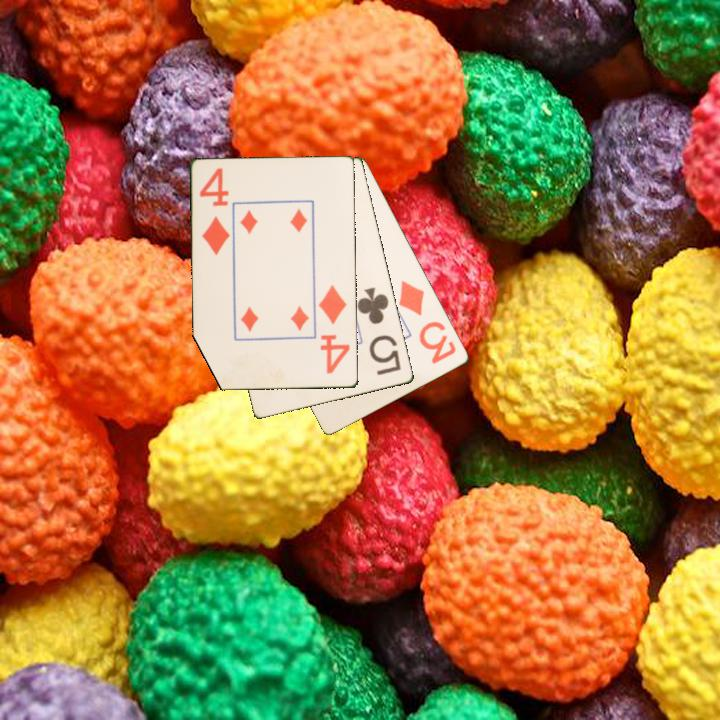3d: (395, 277, 459, 367)
4d: (315, 282, 353, 377), (196, 165, 233, 259)
5c: (354, 284, 404, 378)
